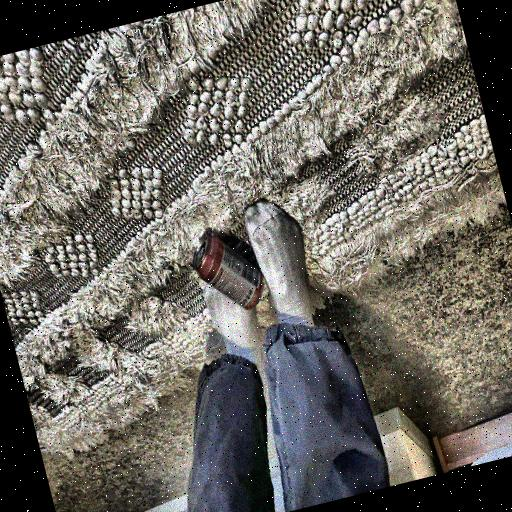koff: (183, 219, 274, 326)
